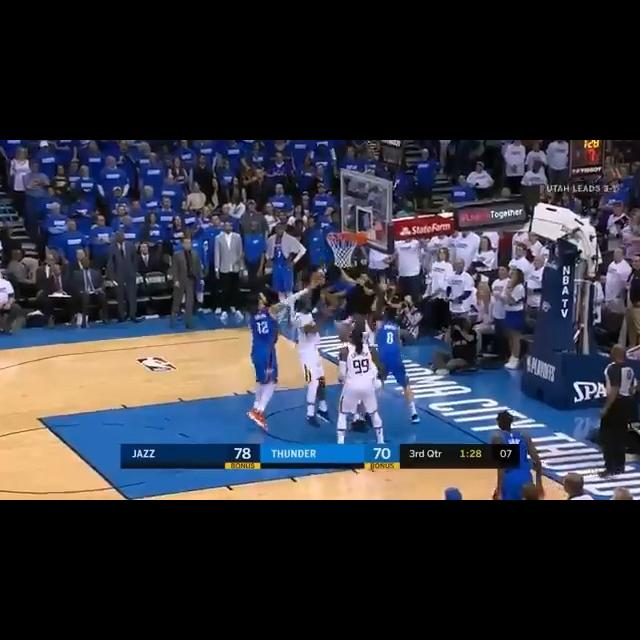basketball: (312, 272, 324, 286)
hoop: (324, 232, 363, 269)
